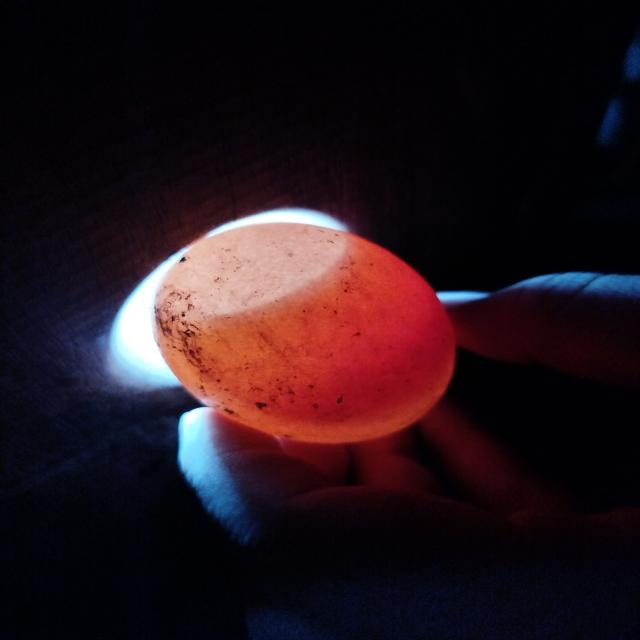Camara de Ar: (156, 223, 345, 320)
Gema Quebrada: (235, 301, 455, 423)
